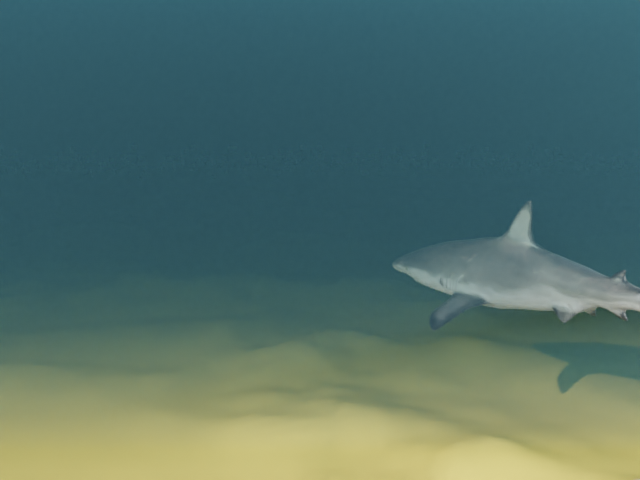Carribean Shark.001: (392, 200, 640, 354)
